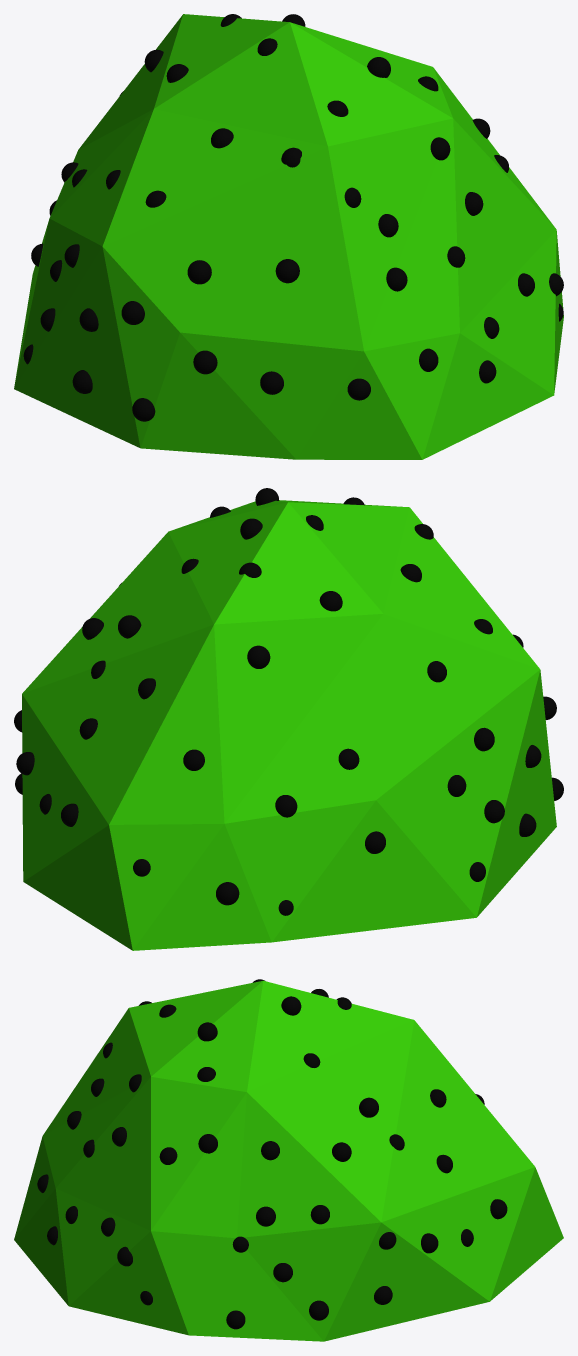
3 renders of one model, top to bottom at view 1: azimuth 30°, elevation 25°; view 2: azimuth 150°, elevation 25°; view 3: azimuth 270°, elevation 25°, orthographic. The views are drawn at different scales.
Visible parts, largest first — view 1: Bush; view 2: Bush; view 3: Bush.
Part boxes in pixels (left/top/right/bottom): Bush: left=14, top=14, right=563, bottom=459; Bush: left=14, top=488, right=563, bottom=950; Bush: left=14, top=979, right=563, bottom=1341.
Bounding box in the file's own units: 2.34 × 1.62 × 2.88.
